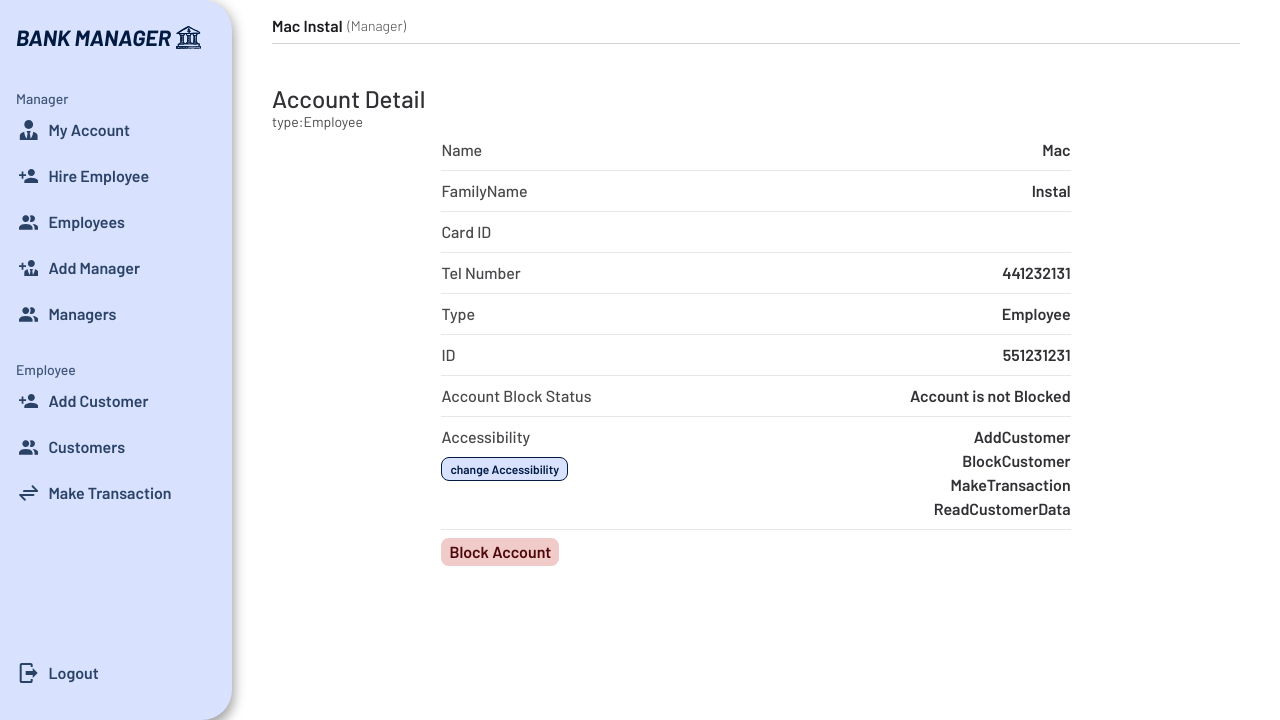
blocking process › blocking or unBlocking will throw error with message
The image size is (1280, 720).
Click the button with test id "dash-account-block-button": (500, 552) [441,538,559,566]
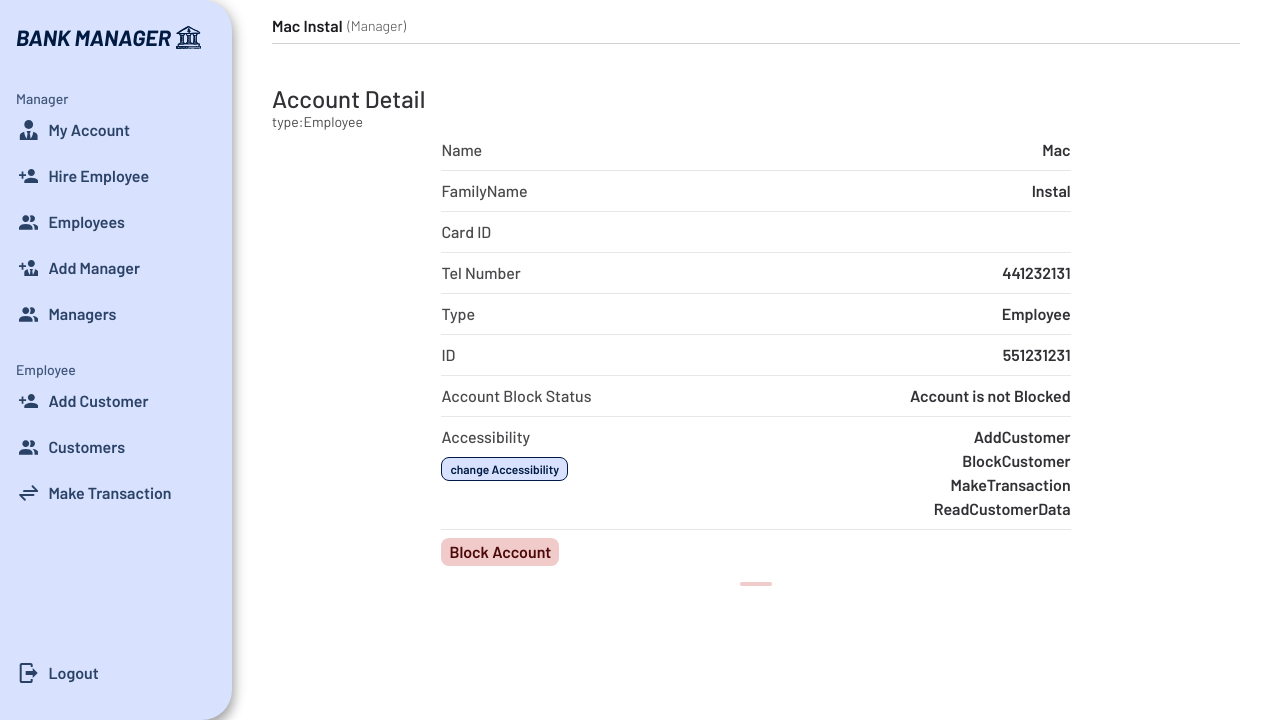
Result: the element with test id "error-message" is shown at [740,582,772,586]
